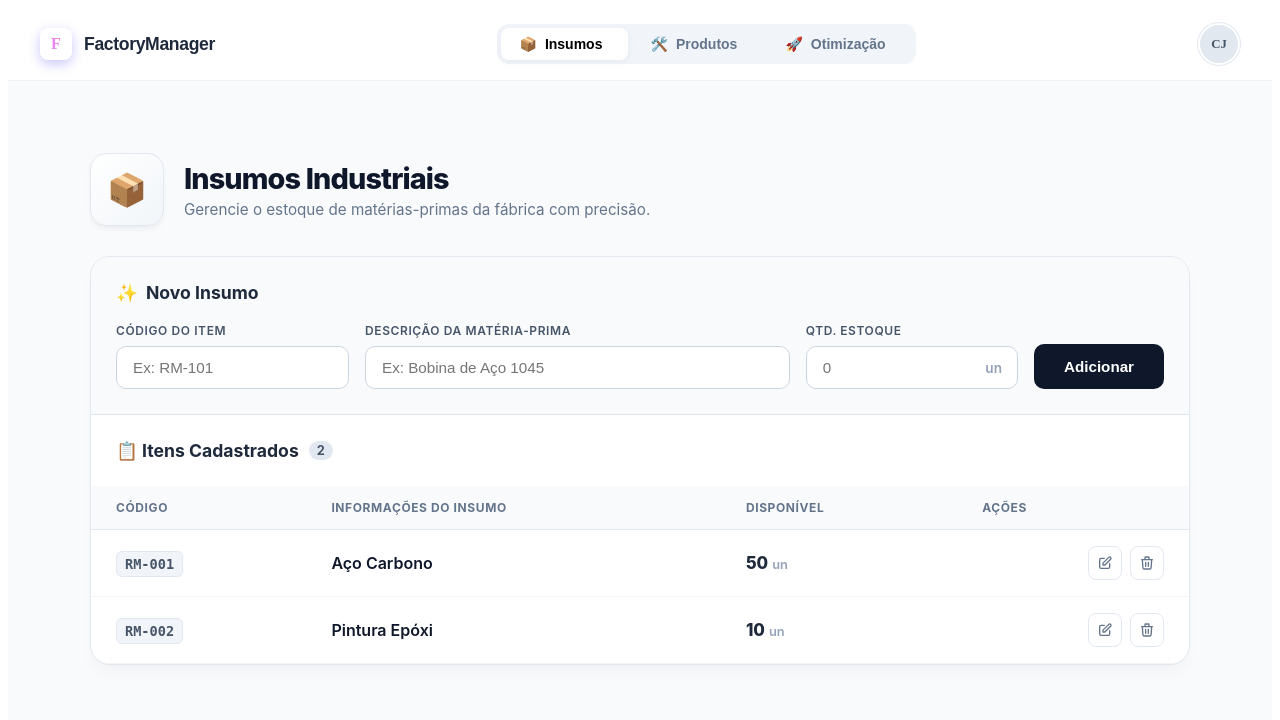
Test case: Módulo de Insumos Industriais › Deve criar um novo insumo com sucesso
Type "RM-TEST" into the field with test id "input-rm-code".
click(233, 368); type("RM-TEST")  # box [116,346,349,389]
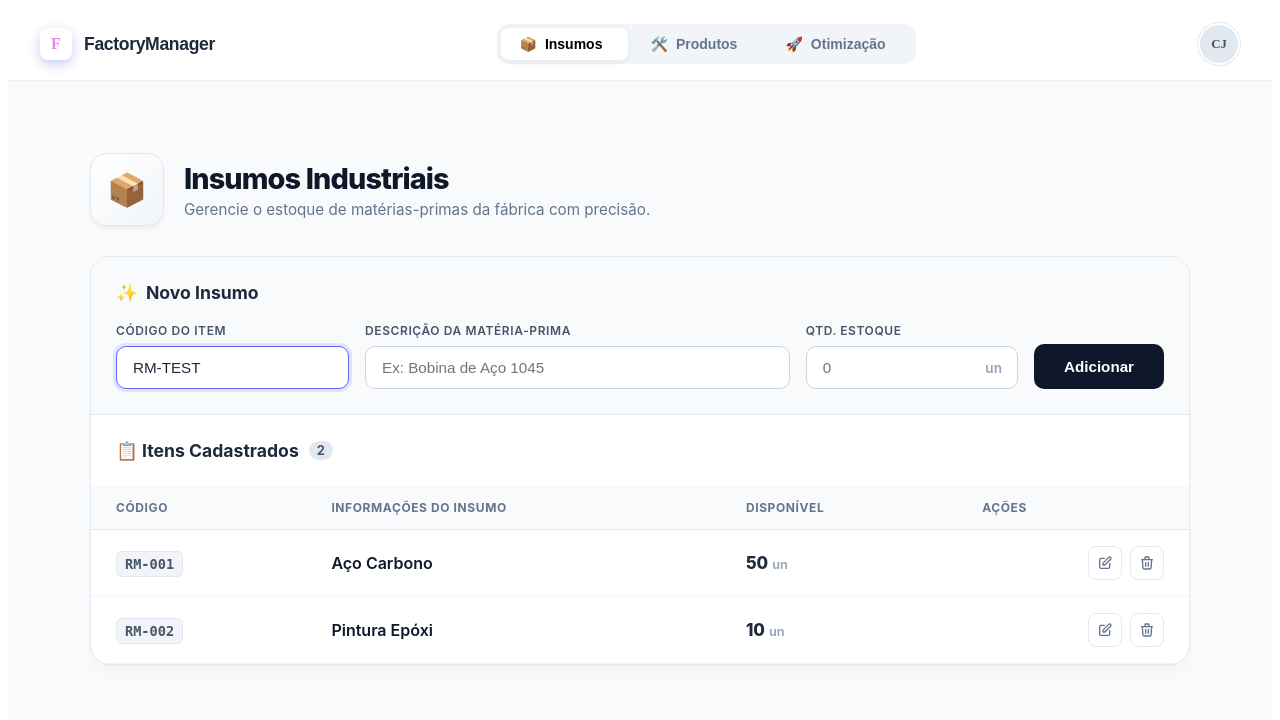
Type "Material de Teste" into the field with test id "input-rm-name".
click(578, 368); type("Material de Teste")  # box [365,346,790,389]
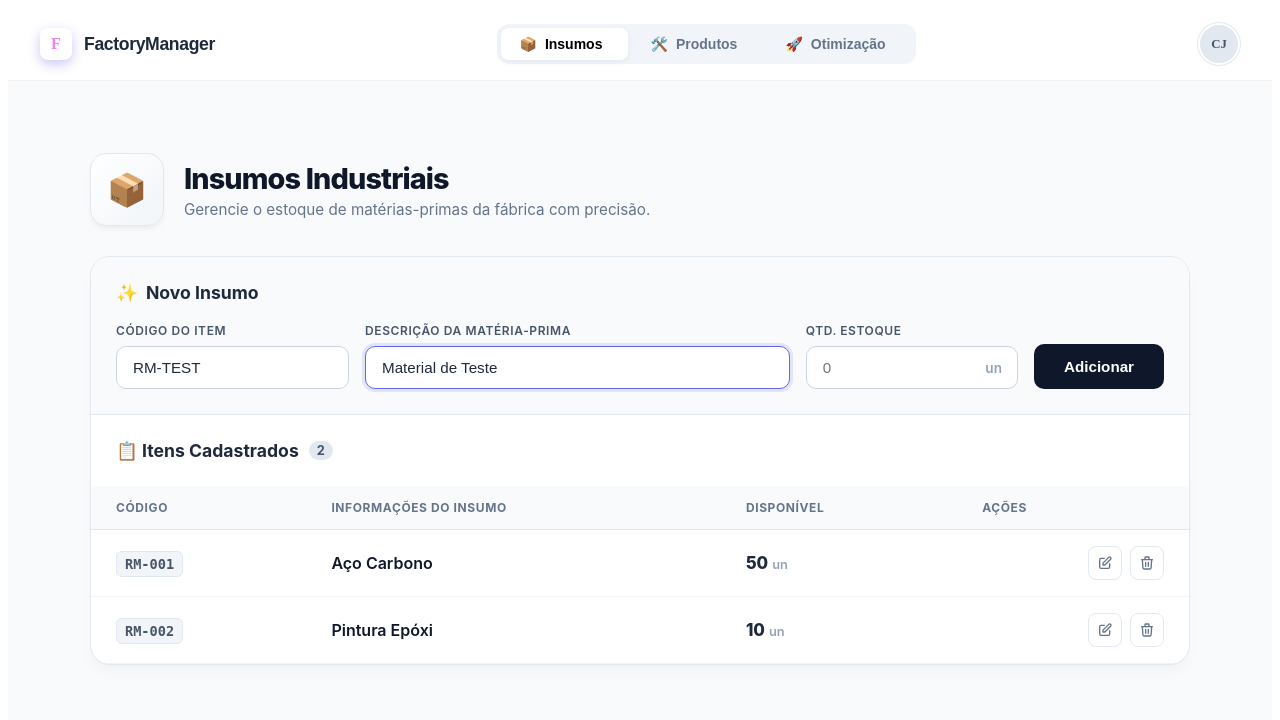
Type "100" into the number field with test id "input-rm-qty".
click(912, 368); type("100")  # box [806,346,1018,389]
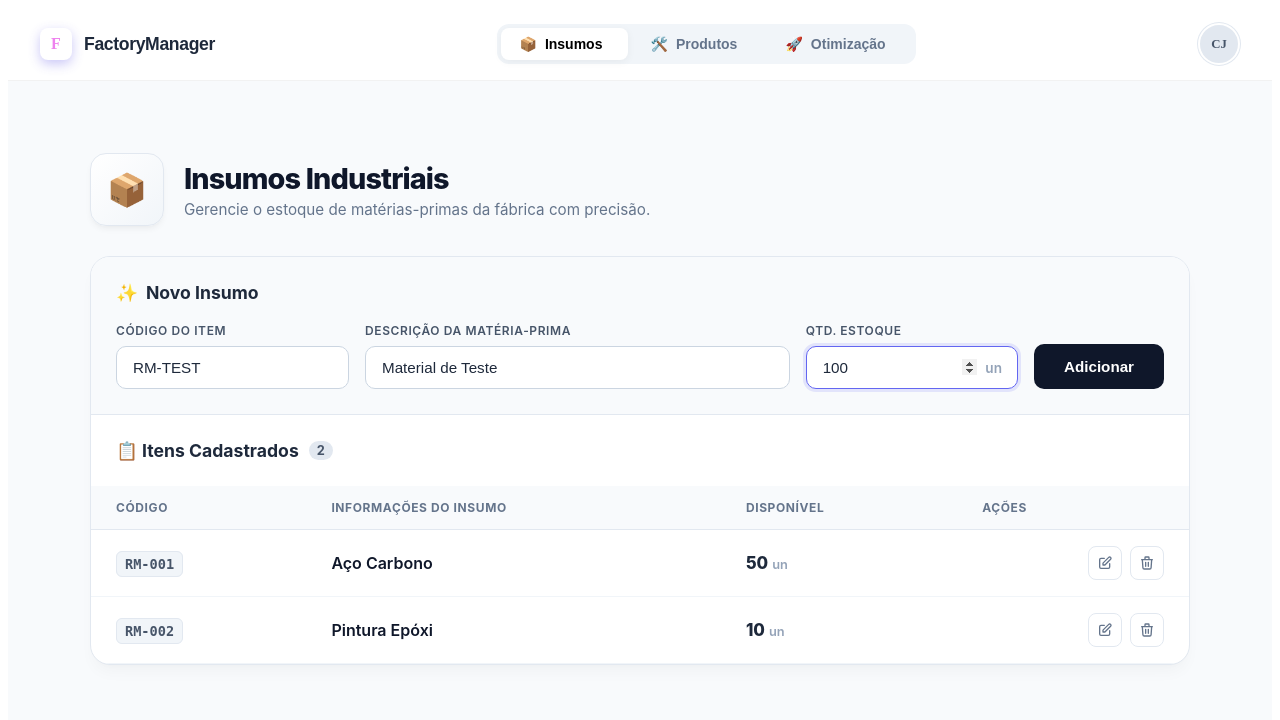
Click the button with test id "btn-rm-save".
click(1099, 367)  # box [1034,344,1164,389]
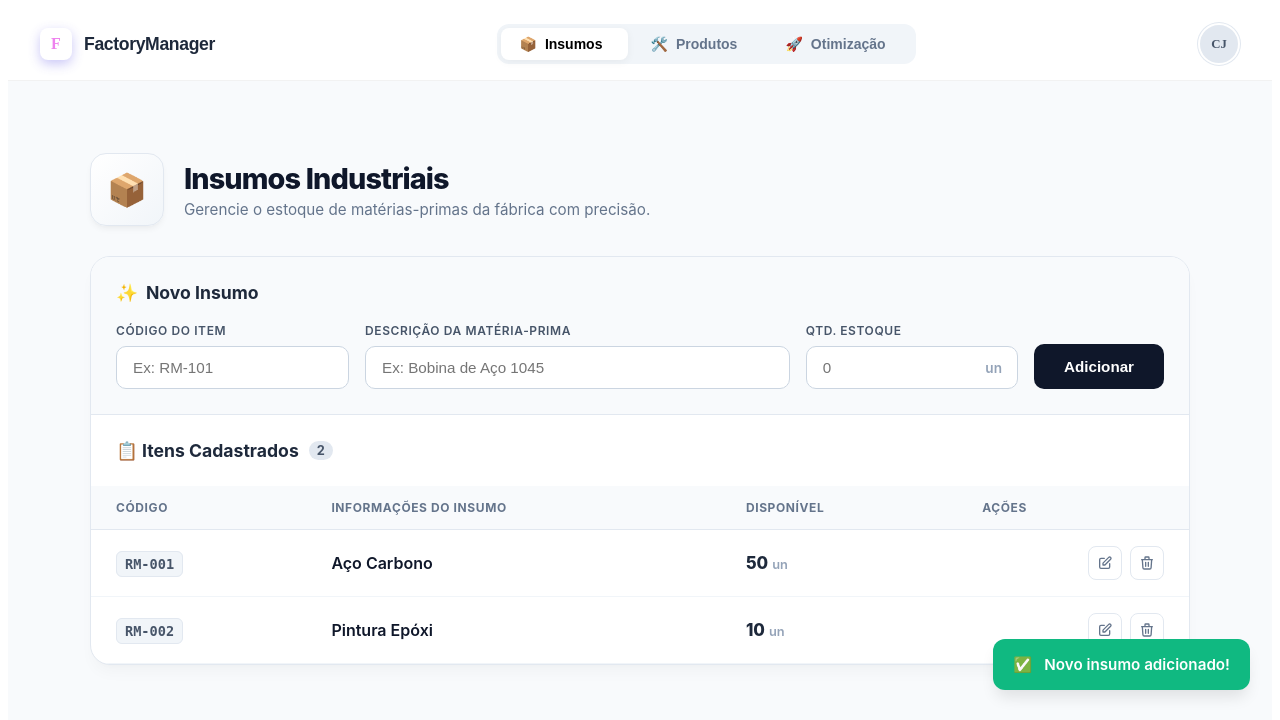
Check: the text with class "toast-success" shows "Novo insumo adicionado", box [1044,655,1230,674]
